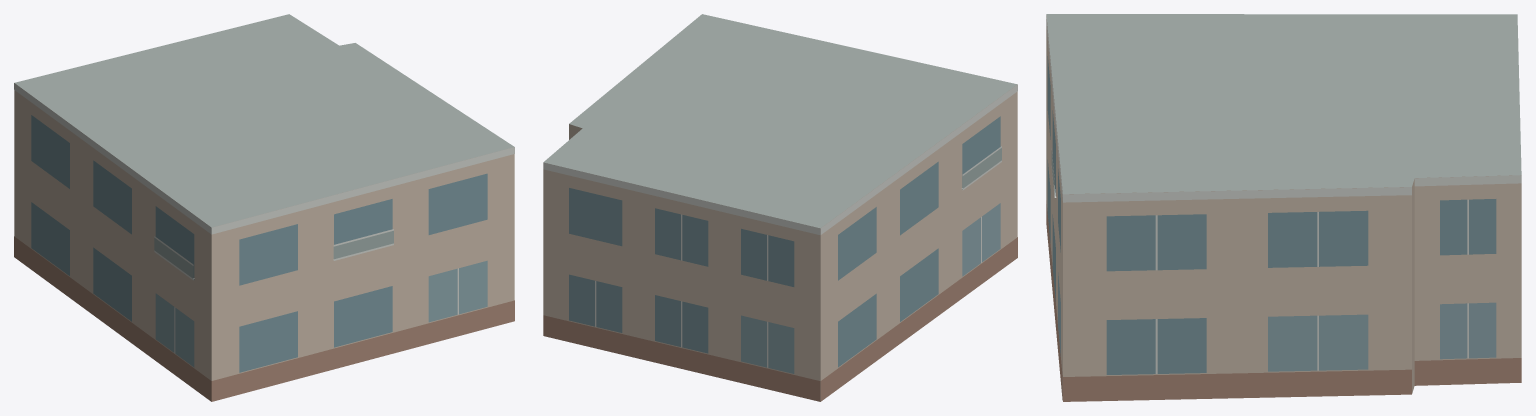
Rendered from survey-upis-32666554.glb.
The picture shows the model from 3 angles, left to right: view 1: azimuth 30°, elevation 25°; view 2: azimuth 150°, elevation 25°; view 3: azimuth 270°, elevation 25°; orthographic projection. The views are drawn at different scales.
Parts seen in each view (by area): view 1: survey-upis-32666554.tmp; view 2: survey-upis-32666554.tmp; view 3: survey-upis-32666554.tmp.
Part boxes in pixels (left/top/right/bottom): survey-upis-32666554.tmp: left=14, top=14, right=514, bottom=401; survey-upis-32666554.tmp: left=543, top=14, right=1017, bottom=401; survey-upis-32666554.tmp: left=1046, top=14, right=1521, bottom=401.
Bounding box in the file's own units: 11.4 × 6.1 × 12.67.
